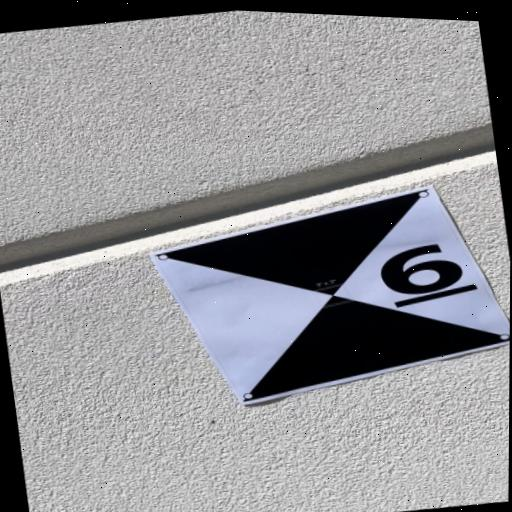target6: (148, 183, 510, 408)
